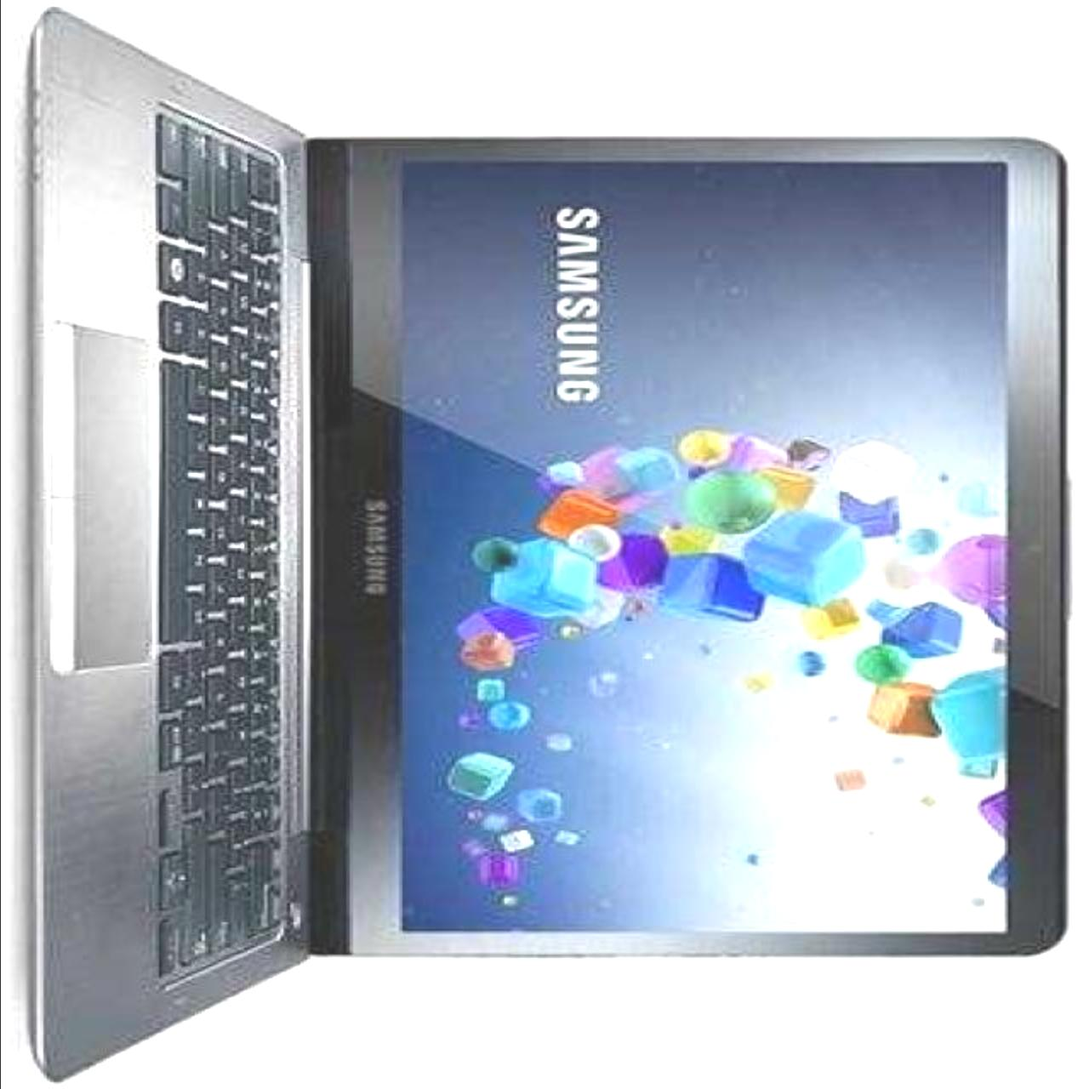laptop: (37, 119, 1062, 956)
